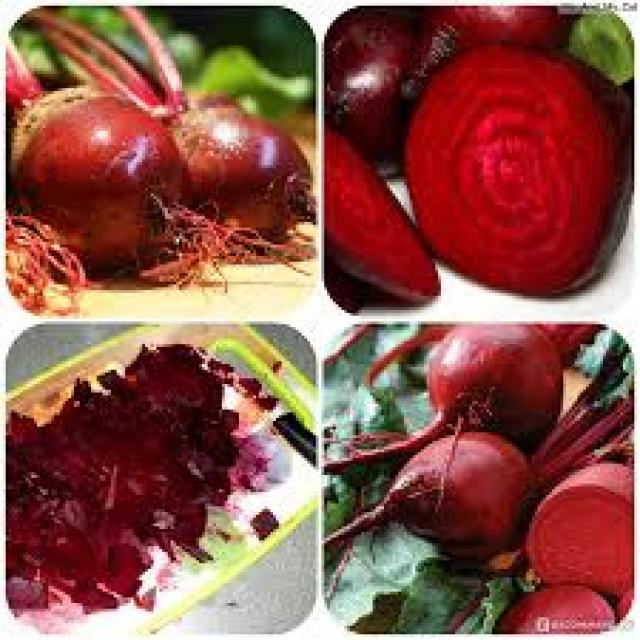beet: (7, 355, 257, 607), (411, 40, 640, 304), (7, 82, 197, 287), (316, 114, 452, 320), (166, 95, 312, 234), (394, 426, 538, 560), (514, 465, 636, 590), (421, 324, 550, 432), (472, 574, 620, 640)
